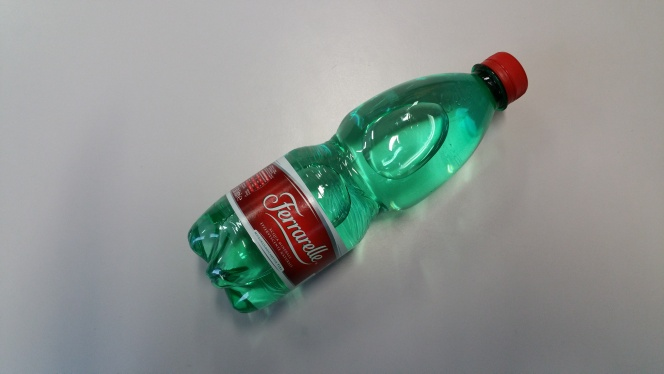bottle: (156, 43, 532, 321)
